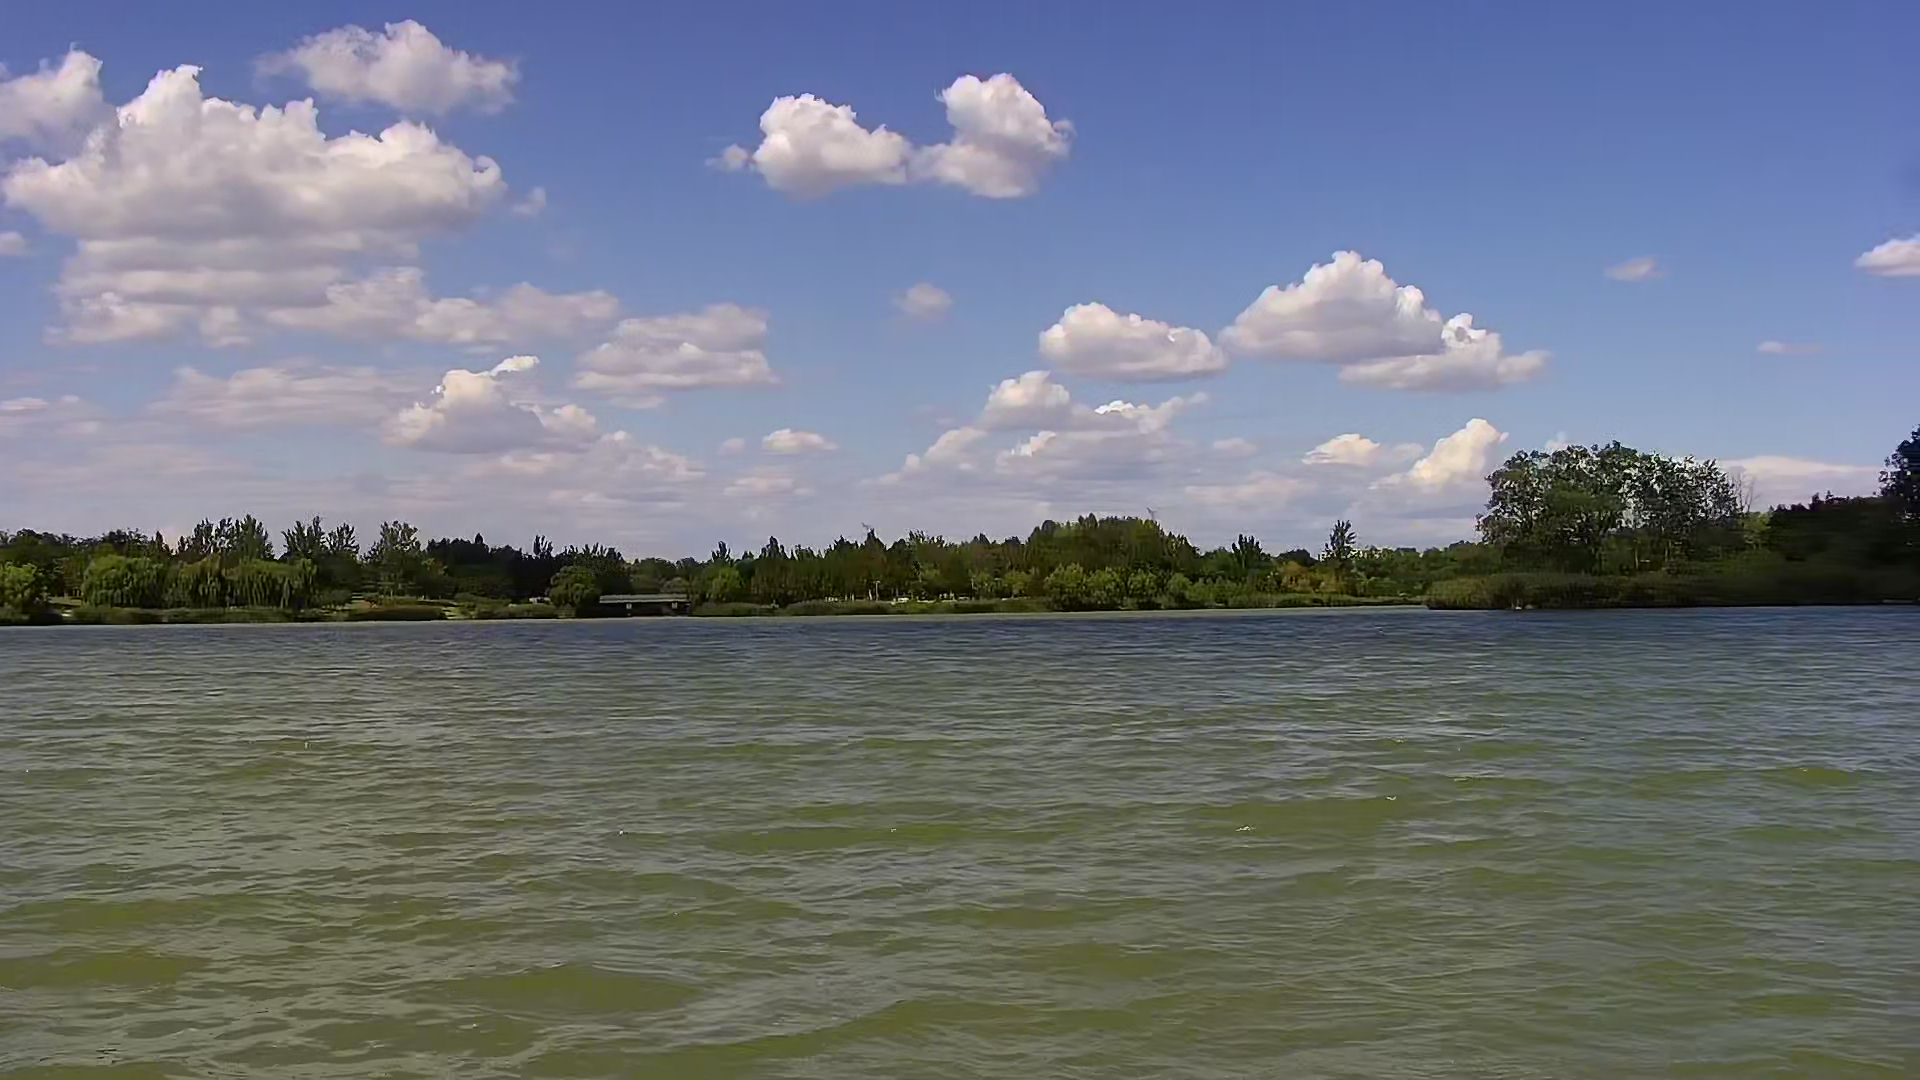bridge: (593, 589, 696, 618)
